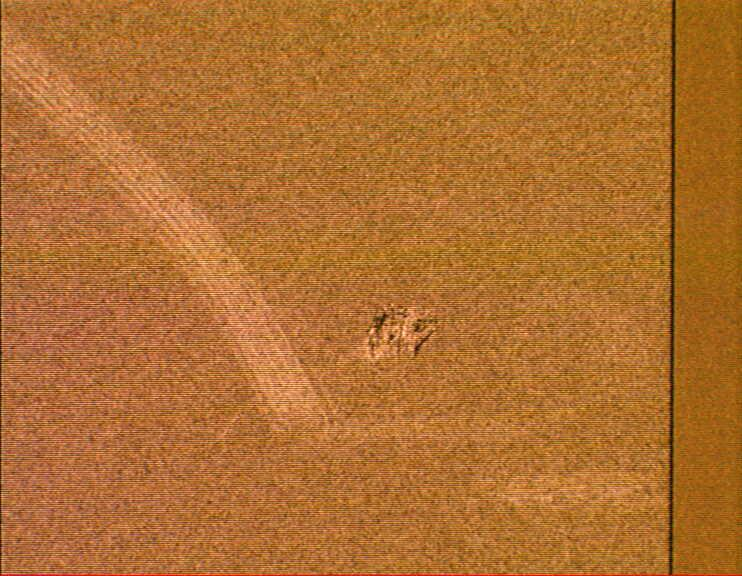SCRATCH: (1, 28, 700, 520)
